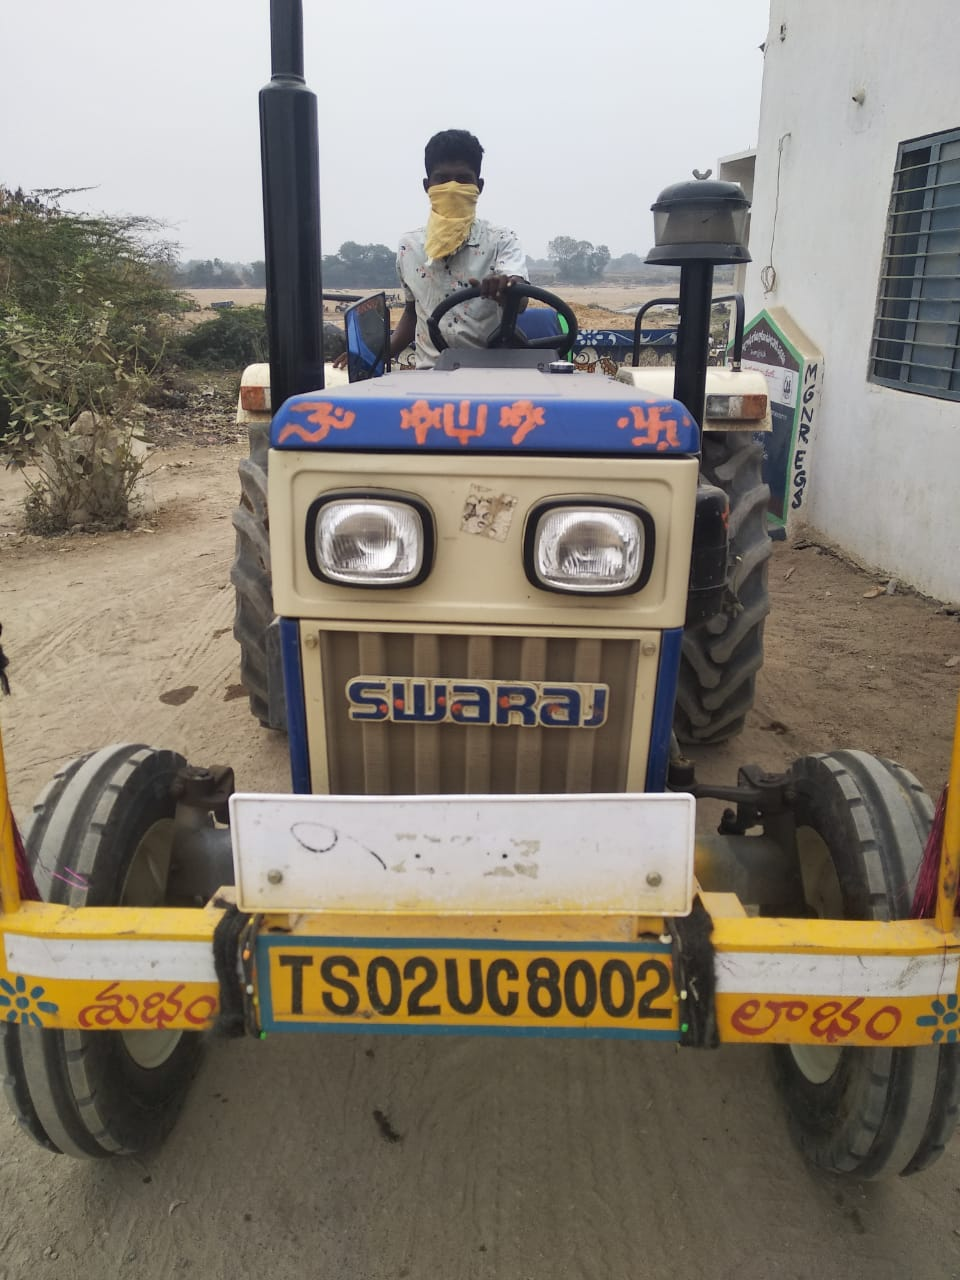license_plate: (267, 943, 684, 1027)
